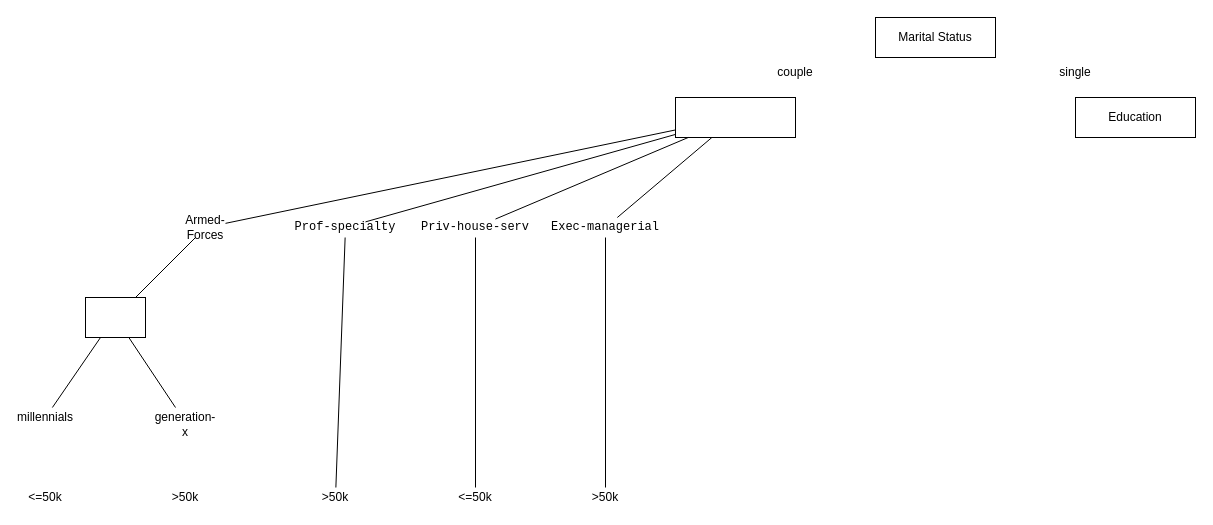
Some shapes in this 1213 by 525 pixel diagram are drawn without their labels. The centre of each missing label's shape, as x and y in pixels:
age: point 115,317
Occupation: point 735,117
